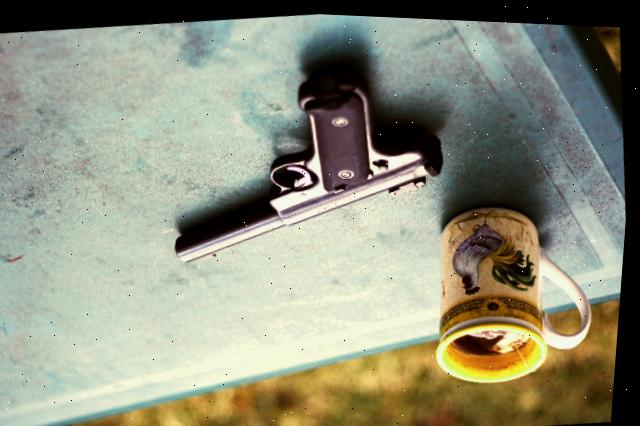pistol: (160, 54, 459, 273)
